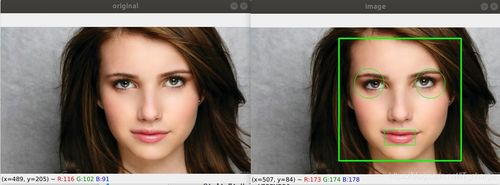nomask: (98, 32, 212, 159)
